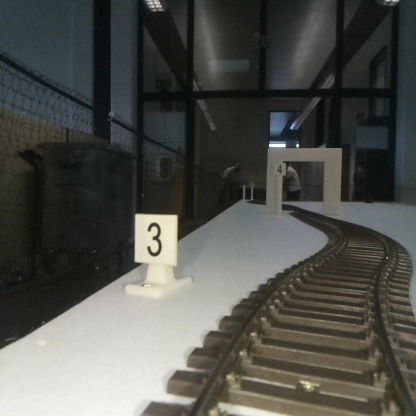white-info-4: (274, 162, 286, 217)
white-stop-3: (134, 214, 177, 294)
